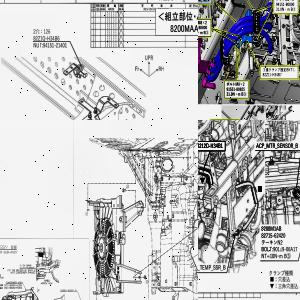PartNumber: (33, 34, 60, 42), (43, 42, 69, 49), (261, 232, 286, 239), (273, 246, 298, 253), (198, 142, 223, 148), (276, 1, 296, 7), (226, 86, 245, 92), (262, 72, 282, 77), (10, 286, 23, 290), (198, 25, 208, 30), (60, 289, 74, 292), (10, 284, 23, 287)
